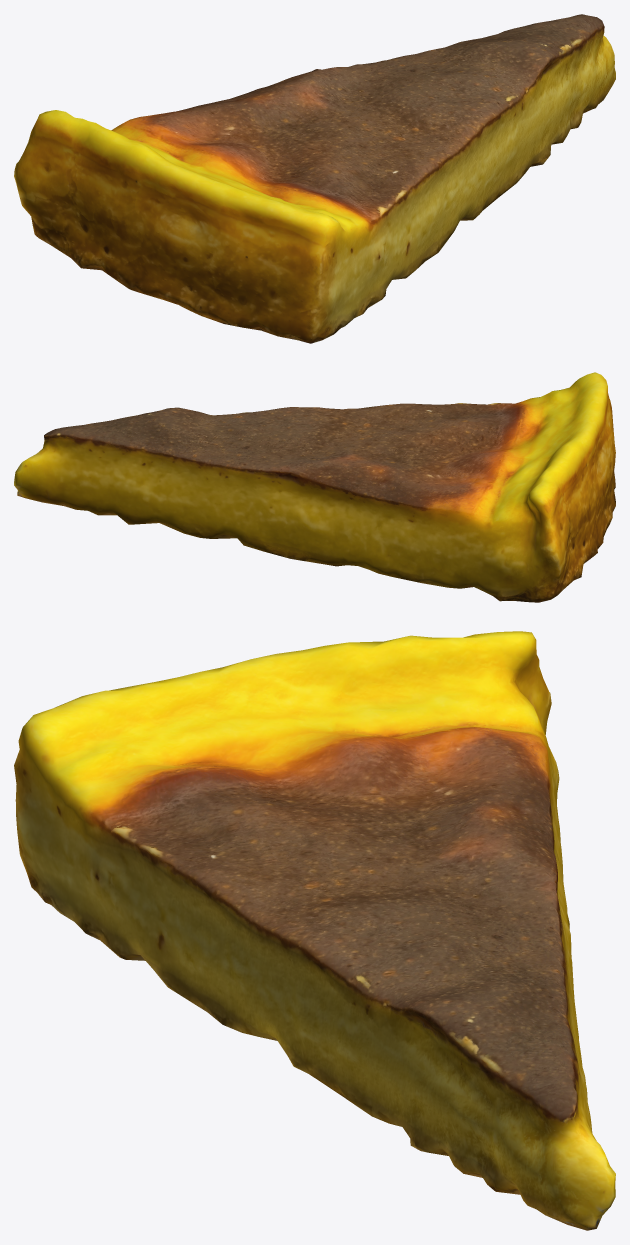
Rendered from flan.fbx.
3 views of the same model, one above another, from view 1: azimuth 30°, elevation 25°; view 2: azimuth 150°, elevation 25°; view 3: azimuth 270°, elevation 25° (orthographic). The views are drawn at different scales.
Parts seen in each view (by area): view 1: model; view 2: model; view 3: model.
Part boxes in pixels (box(x1,y1,x2,y2)): model: box(14, 14, 615, 343); model: box(14, 372, 615, 602); model: box(14, 631, 615, 1230).
Size of the model in its own units: 16.52 by 3.61 by 9.7.
Materials: 1 (1 with a texture image).
